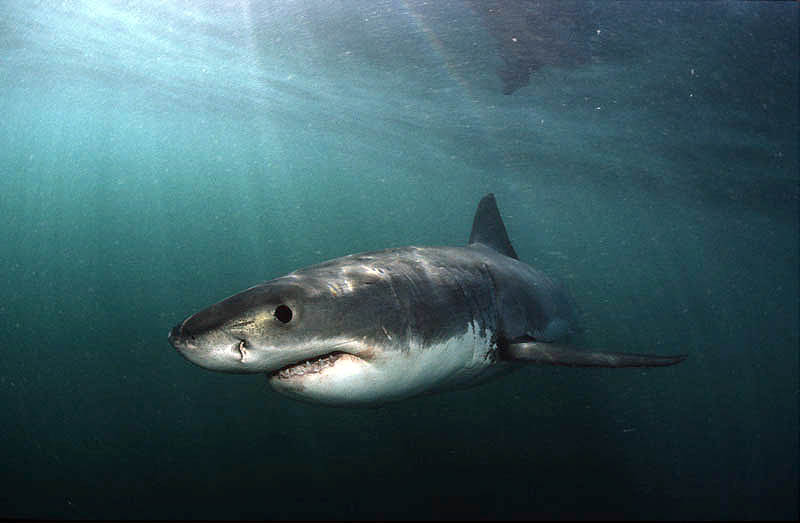Carcharodon_carcharias: (152, 184, 713, 429)
